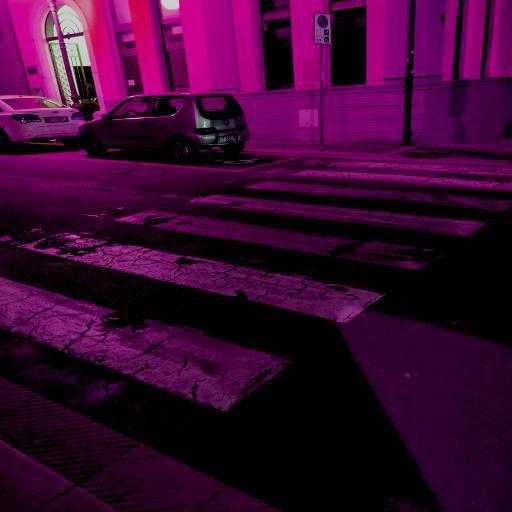crosswalk: (112, 192, 490, 276)
